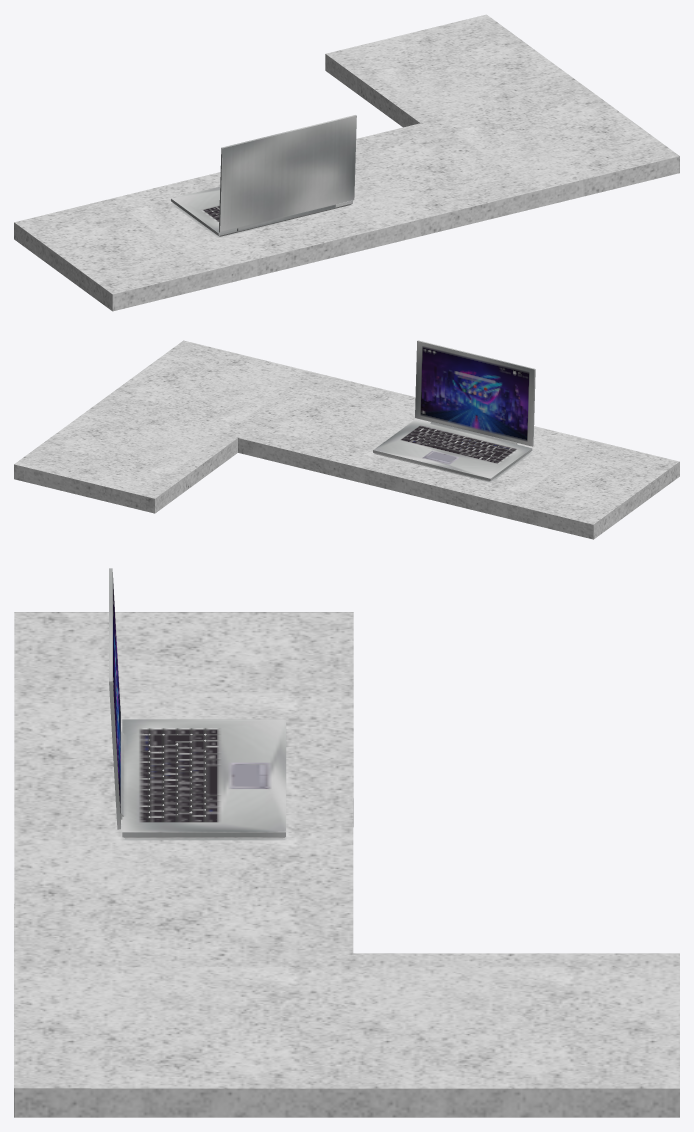
The model's file is int_108.fbx.
The picture shows the model from 3 angles, top to bottom: view 1: azimuth 30°, elevation 25°; view 2: azimuth 150°, elevation 25°; view 3: azimuth 270°, elevation 25°; orthographic projection. The views are drawn at different scales.
Parts seen in each view (by area): view 1: escritorio.001; view 2: escritorio.001; view 3: escritorio.001.
Part boxes in pixels (x1,y1,x2,y2): escritorio.001: (14,14,679,311); escritorio.001: (14,340,679,539); escritorio.001: (14,568,679,1117).
Size of the model in its own units: 259 by 47.8 by 153.
Materials: 1 (1 with a texture image).
